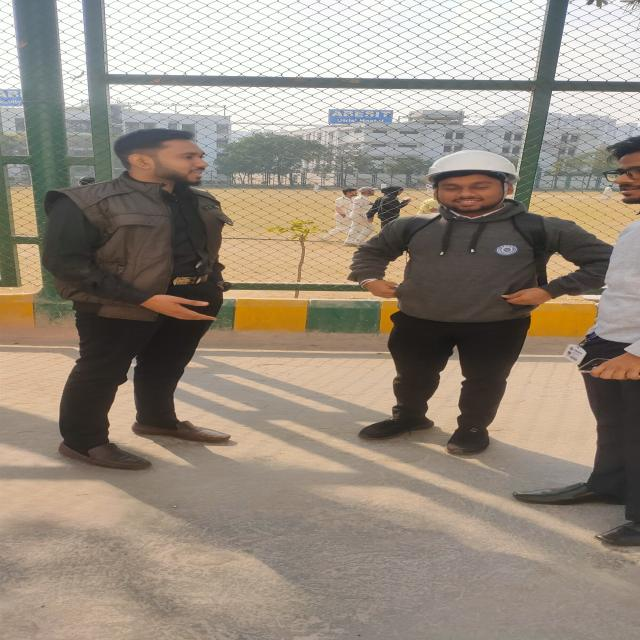no jacket: (348, 148, 609, 458)
unsafe: (31, 128, 240, 472), (515, 136, 640, 546)
